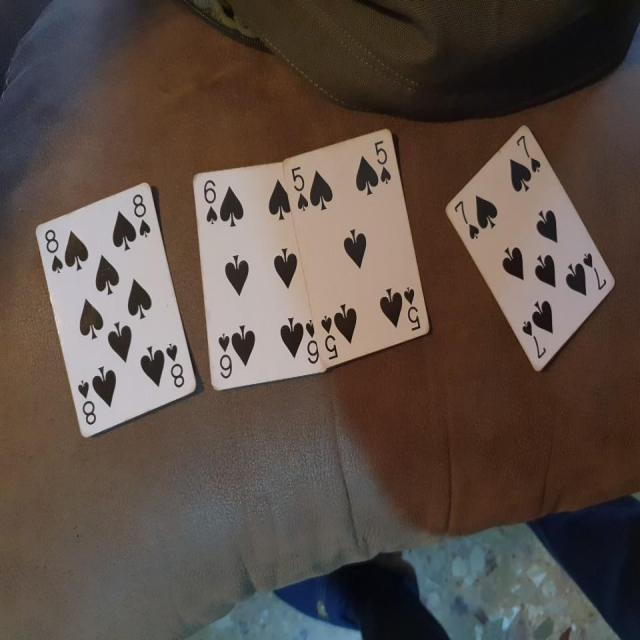5 Spades: (284, 126, 439, 400)
6 Spades: (191, 156, 325, 400)
7 Spades: (441, 121, 622, 385)
8 Spades: (30, 180, 205, 454)
